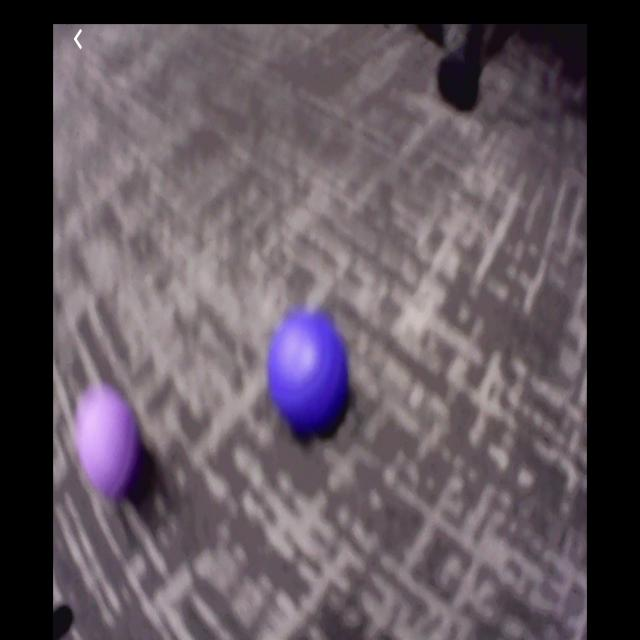ball: (267, 310, 350, 429), (77, 384, 139, 500)
